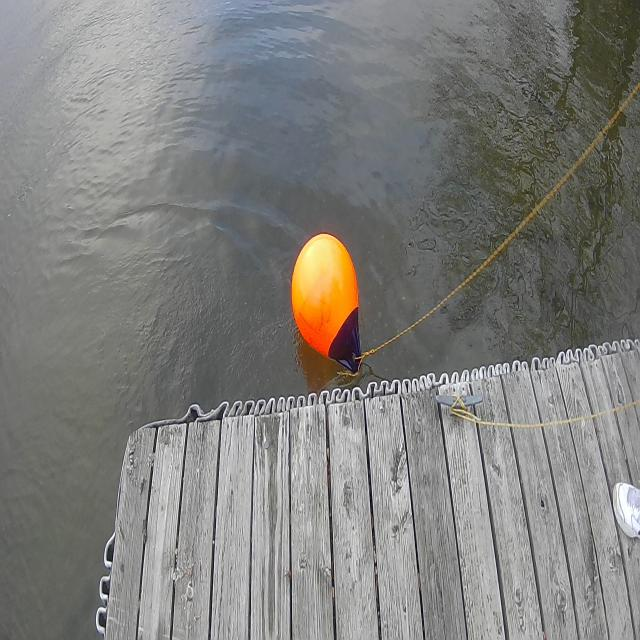Buoy: (288, 230, 363, 369)
